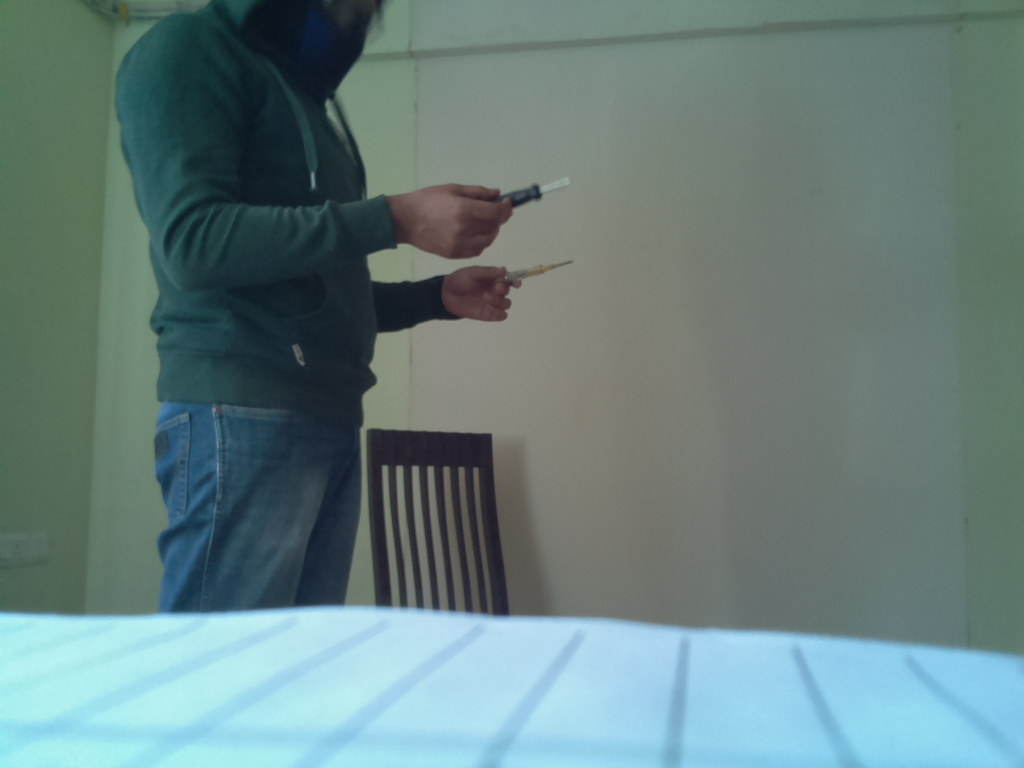none3: (490, 165, 581, 209), (493, 252, 584, 296)
